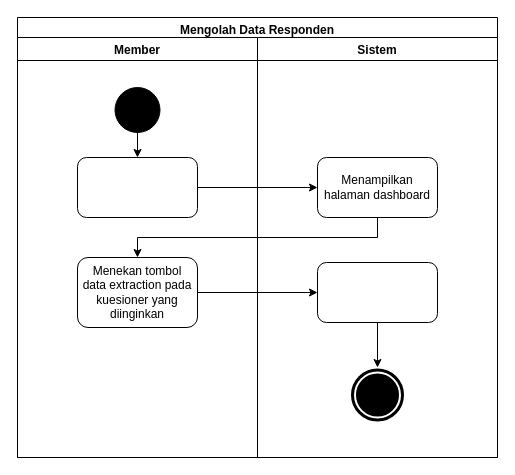
Image size: 515x475. Some labels were removed from this diagram. Each missing label, with the box of its shape:
Membuka halaman dashboard: (76, 156, 198, 218)
Menampilkan halaman data extraction: (316, 262, 438, 322)
